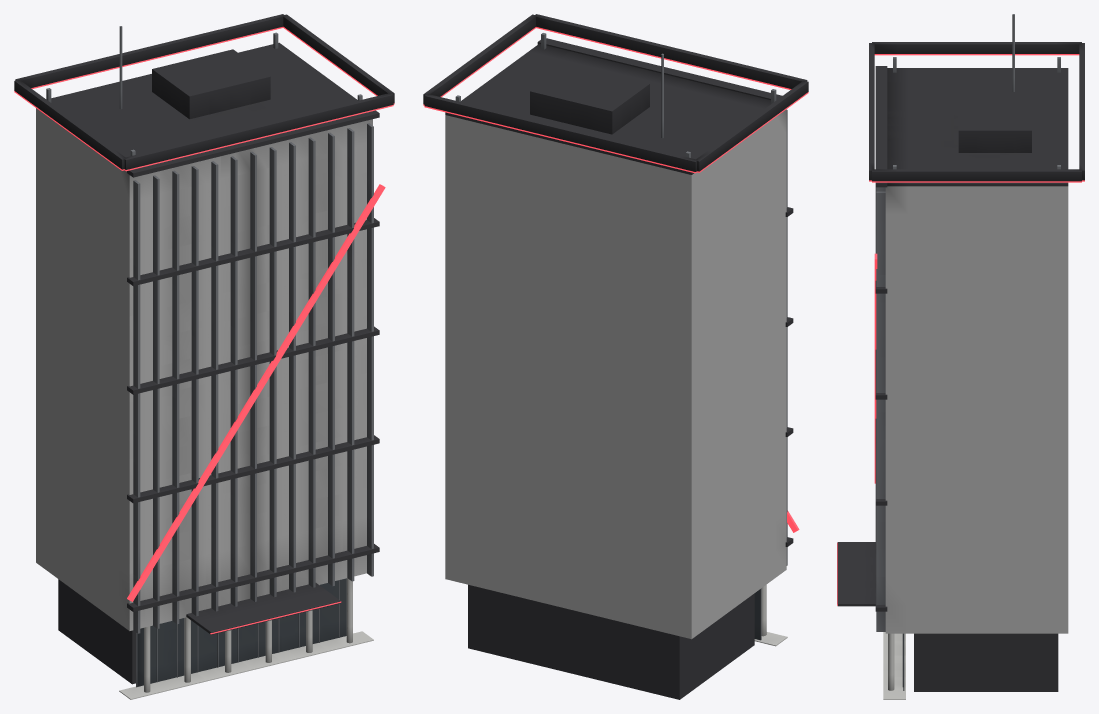
3 renders of one model, left to right at view 1: azimuth 30°, elevation 25°; view 2: azimuth 150°, elevation 25°; view 3: azimuth 270°, elevation 25°, orthographic. The views are drawn at different scales.
Parts seen in each view (by area): view 1: body; view 2: body; view 3: body.
Part boxes in pixels (bbox=[...]): body: bbox=[14, 14, 394, 699]; body: bbox=[423, 14, 808, 699]; body: bbox=[837, 14, 1084, 699].
Size of the model in its own units: 33.62 by 72 by 27.12.
